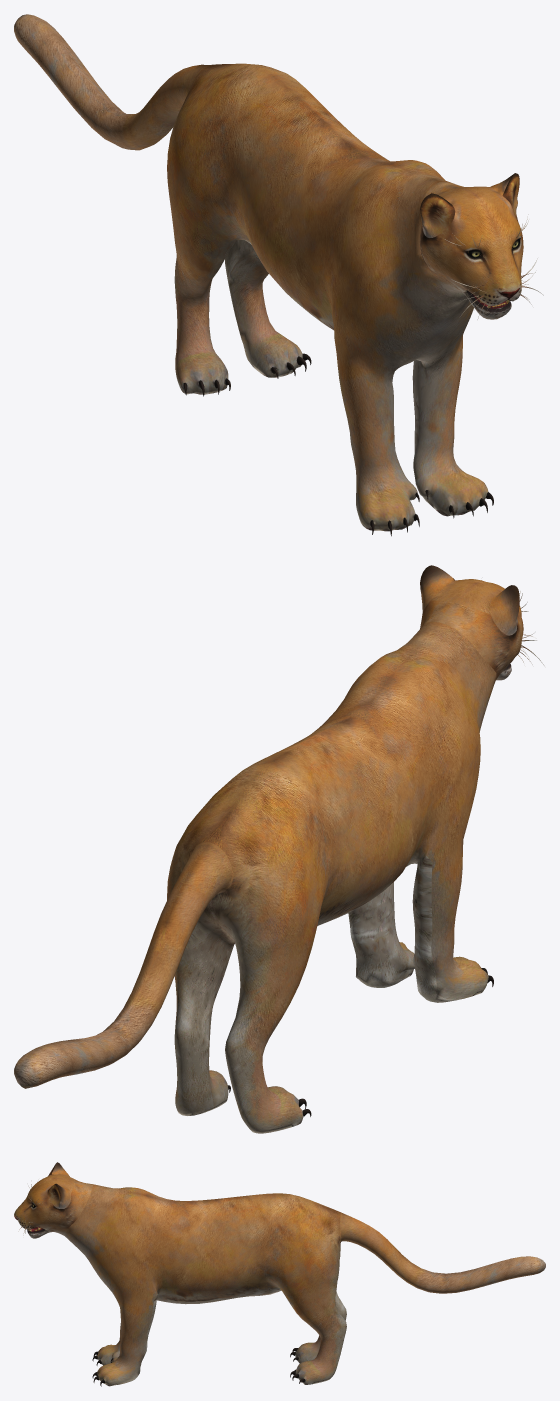
The model's file is Puma.gltf.
3 views of the same model, one above another, from view 1: azimuth 30°, elevation 25°; view 2: azimuth 150°, elevation 25°; view 3: azimuth 270°, elevation 25° (orthographic). The views are drawn at different scales.
Parts seen in each view (by area): view 1: Puma; view 2: Puma; view 3: Puma.
Part boxes in pixels (box(x1,y1,x2,y2)): Puma: box(14, 14, 543, 536); Puma: box(14, 565, 544, 1133); Puma: box(14, 1162, 545, 1386).
Size of the model in its own units: 1.88 by 5.11 by 12.38.
1 material, 1 textured.
